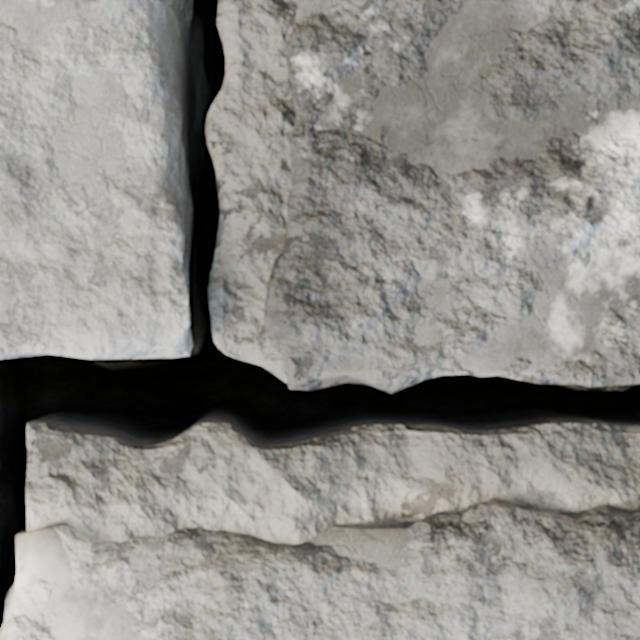brick: (264, 0, 639, 390), (0, 0, 189, 357)
broken_brick: (7, 498, 639, 639)
crack: (0, 0, 639, 639)
